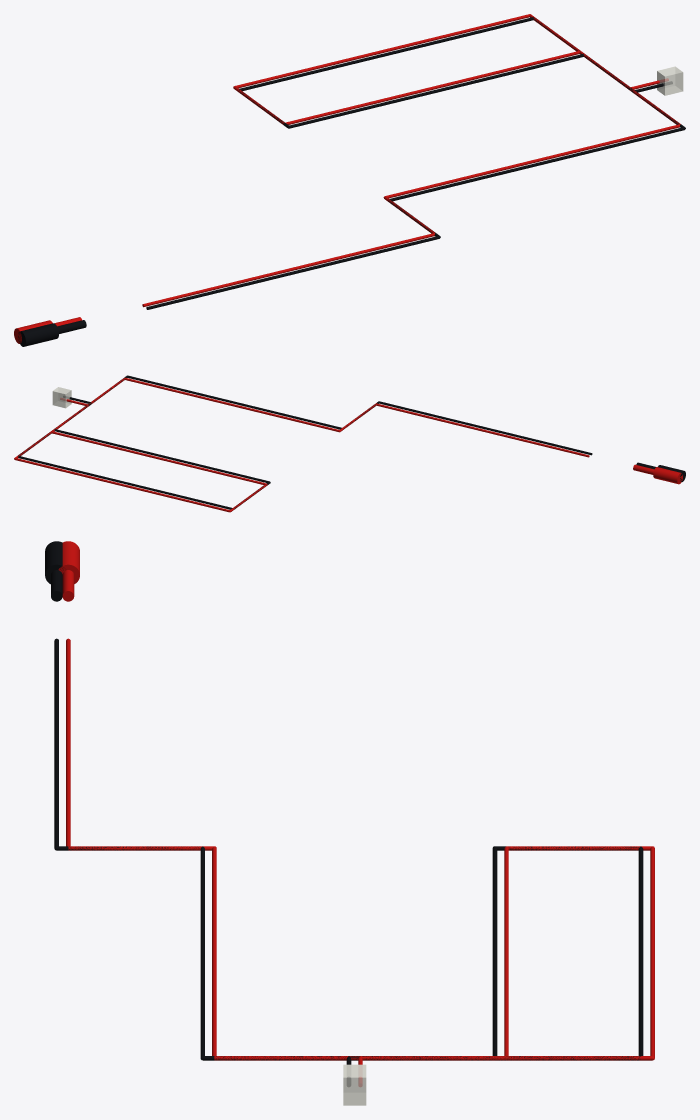
The model's file is HR30_E1_J1_logic_power_cable_placed_candidate.glb.
3 renders of one model, top to bottom at view 1: azimuth 30°, elevation 25°; view 2: azimuth 150°, elevation 25°; view 3: azimuth 270°, elevation 25°, orthographic. The views are drawn at different scales.
Parts seen in each view (by area): view 1: ROUTED_J1_2_AUX_5V_SAFE, ROUTED_J1_1_CTRL_GND, SOURCE_PLUG_J1_1_CTRL_GND, J1_VHR_2N_PROJECT_ENVELOPE; view 2: ROUTED_J1_2_AUX_5V_SAFE, ROUTED_J1_1_CTRL_GND, SOURCE_PLUG_J1_2_AUX_5V_SAFE, J1_VHR_2N_PROJECT_ENVELOPE; view 3: ROUTED_J1_2_AUX_5V_SAFE, ROUTED_J1_1_CTRL_GND, J1_VHR_2N_PROJECT_ENVELOPE, SOURCE_PLUG_J1_2_AUX_5V_SAFE, SOURCE_PLUG_J1_1_CTRL_GND.
Boxes of the visible parts, box(x1,y1,x2,y2) form: ROUTED_J1_2_AUX_5V_SAFE: box(142, 14, 680, 307); ROUTED_J1_1_CTRL_GND: box(146, 17, 685, 309); SOURCE_PLUG_J1_1_CTRL_GND: box(18, 320, 86, 346); J1_VHR_2N_PROJECT_ENVELOPE: box(657, 66, 683, 95); ROUTED_J1_2_AUX_5V_SAFE: box(14, 377, 589, 512); ROUTED_J1_1_CTRL_GND: box(18, 375, 592, 509); SOURCE_PLUG_J1_2_AUX_5V_SAFE: box(633, 464, 682, 484); J1_VHR_2N_PROJECT_ENVELOPE: box(52, 387, 71, 408); ROUTED_J1_2_AUX_5V_SAFE: box(66, 638, 654, 1086); ROUTED_J1_1_CTRL_GND: box(54, 638, 643, 1086); J1_VHR_2N_PROJECT_ENVELOPE: box(343, 1064, 366, 1105); SOURCE_PLUG_J1_2_AUX_5V_SAFE: box(58, 541, 79, 601); SOURCE_PLUG_J1_1_CTRL_GND: box(45, 541, 63, 601).
Size of the model in its own units: 437 by 10.6 by 209.
